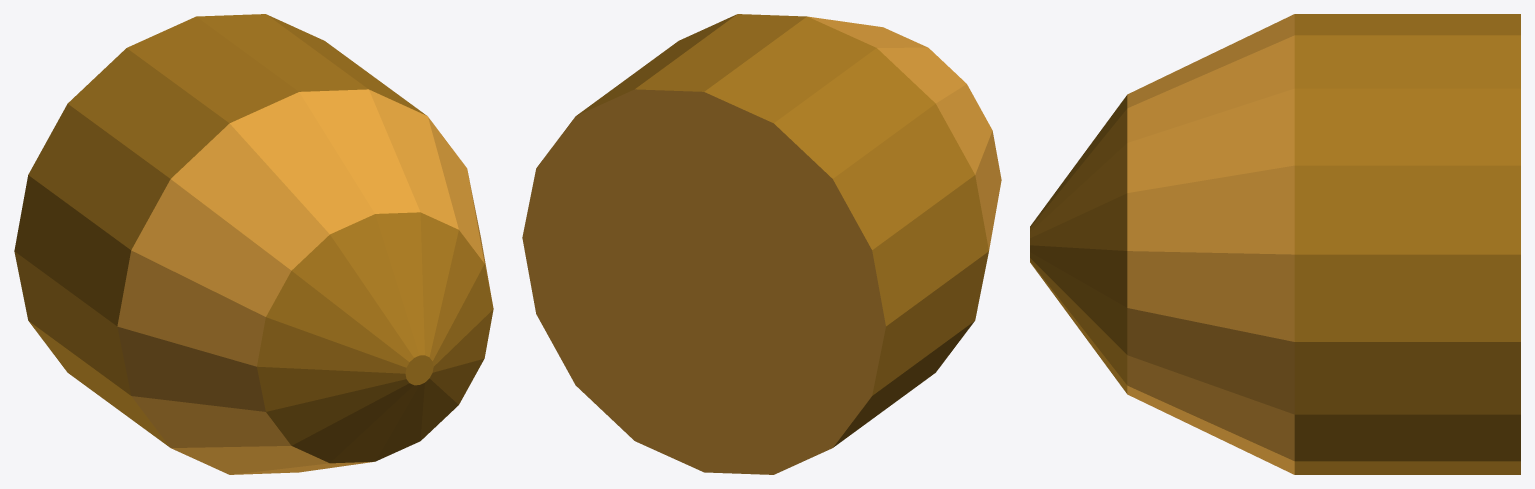
Rendered from Bullet.fbx.
3 views of the same model, side by side, from view 1: azimuth 30°, elevation 25°; view 2: azimuth 150°, elevation 25°; view 3: azimuth 270°, elevation 25° (orthographic). The views are drawn at different scales.
Visible parts, largest first — view 1: SM_Bullet; view 2: SM_Bullet; view 3: SM_Bullet.
Boxes of the visible parts, <box> form: SM_Bullet: <box>14,14,493,474</box>; SM_Bullet: <box>522,14,1001,474</box>; SM_Bullet: <box>1030,14,1520,474</box>.
Bounding box in the file's own units: 0.0828 × 0.0828 × 0.088.
